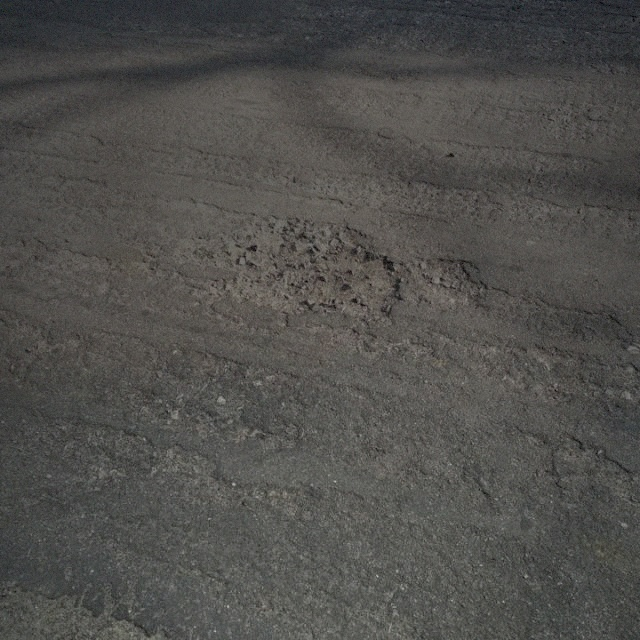pothole: (226, 222, 404, 316), (404, 254, 484, 310)
